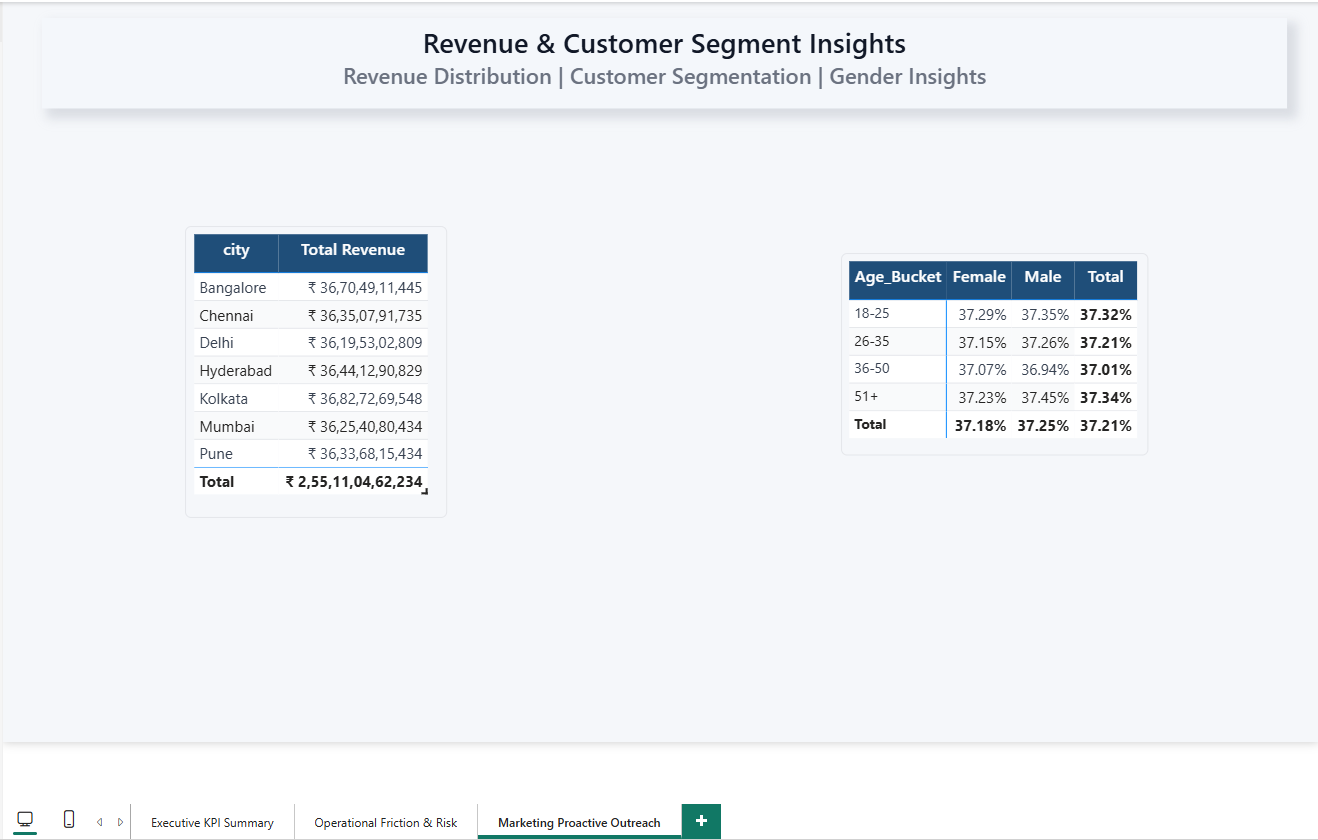

Layout of this report page (visuals, bound fields, positions):
{"tool":"powerbi","page":{"name":"Marketing Proactive Outreach","canvas":[1280,720],"ordinal":2},"visuals":[{"type":"tableEx","fields":{"Values":["Query1.city","select","Query1.Total Revenue"]},"box":[177,217.9,254.8,284],"z":0},{"type":"pivotTable","fields":{"Rows":["Query1.Age_Bucket"],"Columns":["Query1.gender"],"Values":["Query1.Churn Rate"]},"box":[815.1,244.1,298.6,197.4],"z":1000},{"type":"textbox","box":[37.9,15.6,1210.9,87.5],"z":1001}]}

Visuals, with their boxes on the page's 1280x720 design canvas (x1, y1, x2, y2). These are canvas units, not pixel positions in the 1318x840 screenshot, which may show the page scaled, cropped or inside an application window:
tableEx - Query1.city x select: 177:218:432:502
pivotTable - Query1.Age_Bucket x Query1.gender: 815:244:1114:442
textbox: 38:16:1249:103
